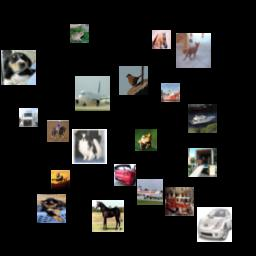airplane: (75, 76, 110, 111), (137, 179, 163, 205), (51, 170, 70, 189)
automobile: (197, 207, 232, 242), (114, 164, 136, 186)
bird: (119, 66, 148, 95)
cat: (176, 33, 211, 68)
dog: (72, 129, 107, 164), (1, 50, 36, 85), (37, 194, 66, 223)
frog: (135, 129, 157, 151), (70, 24, 89, 43)
ship: (188, 104, 217, 133), (161, 83, 180, 102)
truck: (188, 148, 217, 177), (165, 187, 194, 216), (19, 108, 38, 127)
